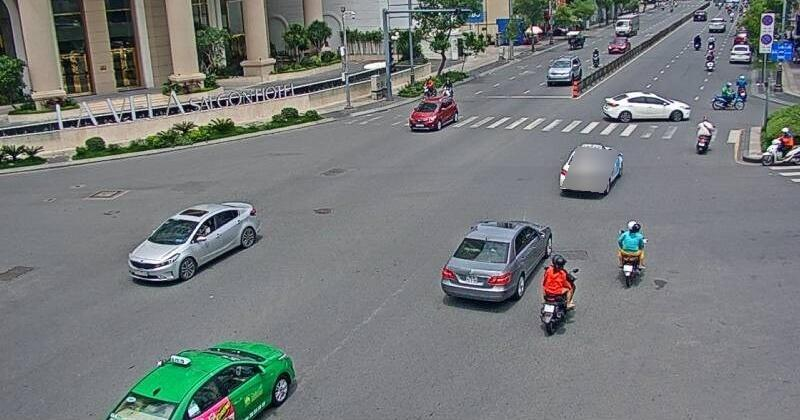xe hoi: (109, 337, 300, 420), (126, 202, 265, 286), (439, 220, 551, 307), (557, 143, 622, 197), (603, 90, 686, 122), (410, 93, 457, 133)
xe may: (537, 252, 578, 338)
